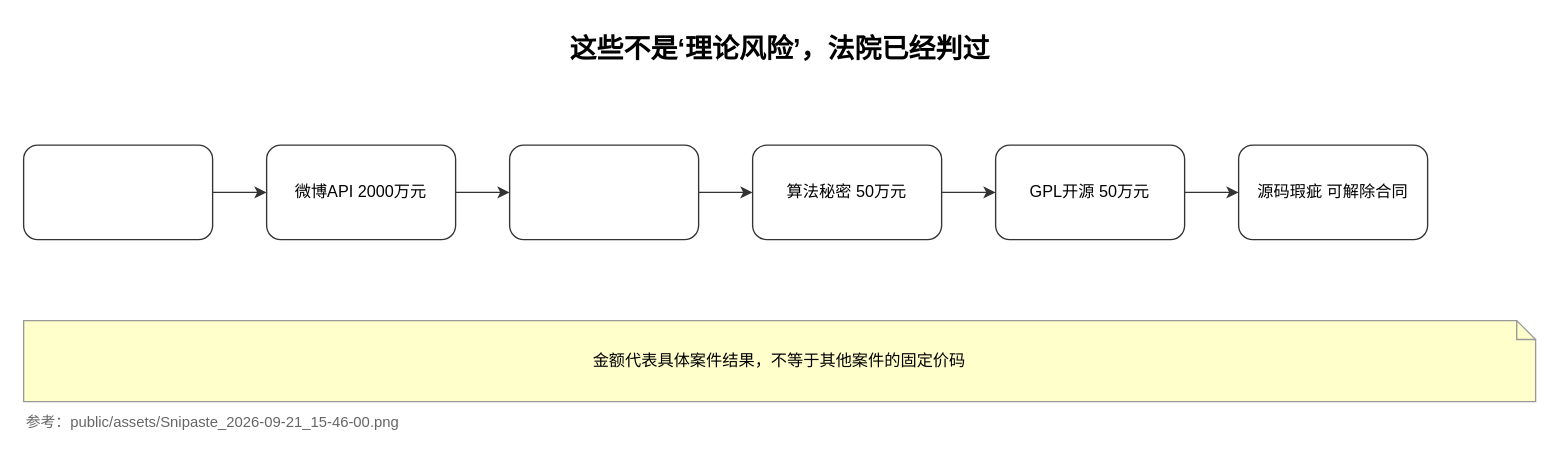
Image size: 1559x456. Some labels were removed from this diagram. Each missing label, with the box of its shape:
AI图片 500元: (22, 144, 213, 240)
数据搪运 500万元: (508, 144, 699, 240)
